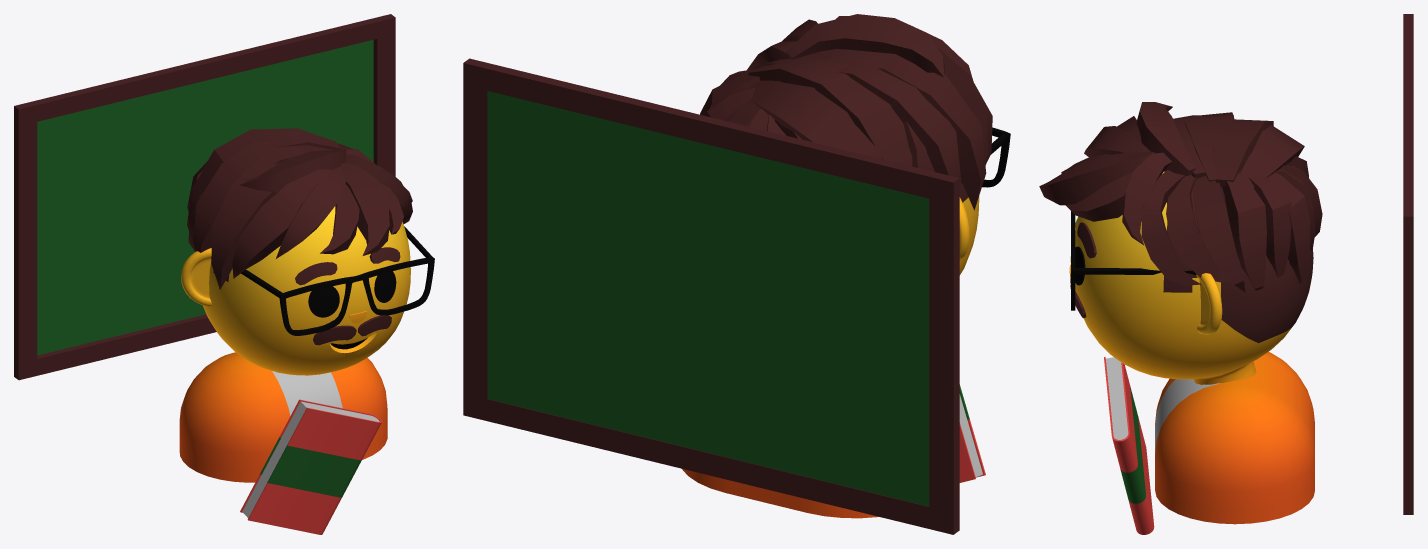
The model's file is man_teacher.fbx.
3 renders of one model, left to right at view 1: azimuth 30°, elevation 25°; view 2: azimuth 150°, elevation 25°; view 3: azimuth 270°, elevation 25°, orthographic. The views are drawn at different scales.
Visible parts, largest first — view 1: Plane.035, Cube.1024, Roundcube.082, Sphere.041, Cube.1032, Plane.033, Circle.569, Cylinder.074, Circle.572, Circle.571; view 2: Plane.035, Cube.1024, Sphere.041, Cube.1032, Plane.033, Roundcube.082; view 3: Cube.1024, Sphere.041, Roundcube.082, Plane.035, Cube.1032, Cylinder.074, Plane.033.
Part boxes in pixels (x1,y1,x2,y2): Plane.035: [14, 14, 395, 380]; Cube.1024: [187, 128, 412, 289]; Roundcube.082: [203, 206, 410, 375]; Sphere.041: [179, 352, 387, 482]; Cube.1032: [240, 399, 381, 534]; Plane.033: [241, 226, 434, 335]; Circle.569: [308, 271, 396, 317]; Cylinder.074: [181, 248, 211, 306]; Circle.572: [313, 315, 391, 345]; Circle.571: [295, 247, 400, 285]; Plane.035: [463, 58, 959, 534]; Cube.1024: [700, 14, 992, 210]; Sphere.041: [682, 469, 878, 518]; Cube.1032: [959, 384, 985, 482]; Plane.033: [982, 127, 1010, 187]; Roundcube.082: [959, 182, 979, 275]; Cube.1024: [1039, 102, 1322, 292]; Sphere.041: [1155, 351, 1314, 524]; Roundcube.082: [1070, 171, 1313, 384]; Plane.035: [1403, 14, 1413, 514]; Cube.1032: [1104, 357, 1154, 534]; Cylinder.074: [1196, 273, 1222, 334]; Plane.033: [1071, 211, 1196, 310].
Bounding box in the file's own units: 299 × 290 × 234.
2 materials, 2 textured.
